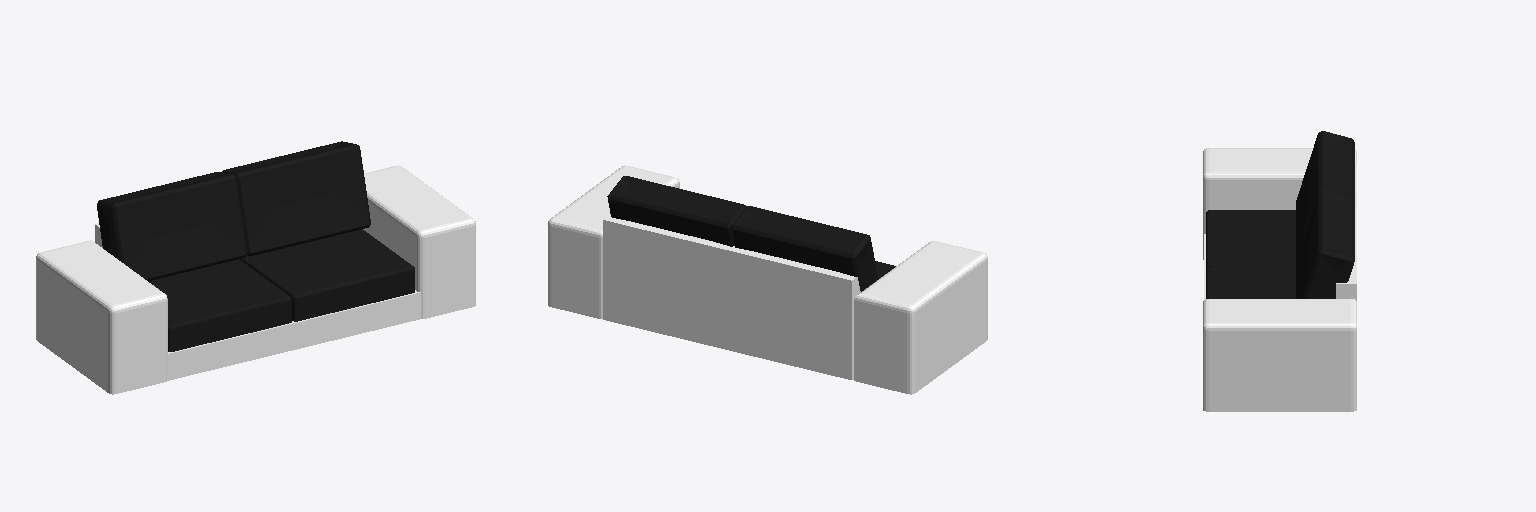
Rendered from 2sofa.obj.
3 views of the same model, side by side, from view 1: azimuth 30°, elevation 25°; view 2: azimuth 150°, elevation 25°; view 3: azimuth 270°, elevation 25° (orthographic).
Visible parts, largest first — view 1: Box004, Box012, Box011, Box003, Box006, Box005, Box001; view 2: Box002, Box004, Box003, Box012, Box011; view 3: Box003, Box004, Box005, Box011, Box012, Box006, Box002.
Boxes of the visible parts, x1=… form: Box004: x1=36, y1=240, x2=167, y2=394; Box012: x1=97, y1=172, x2=246, y2=280; Box011: x1=222, y1=141, x2=370, y2=256; Box003: x1=363, y1=165, x2=475, y2=318; Box006: x1=240, y1=229, x2=414, y2=321; Box005: x1=148, y1=259, x2=291, y2=351; Box001: x1=167, y1=290, x2=420, y2=380; Box002: x1=603, y1=215, x2=860, y2=379; Box004: x1=854, y1=241, x2=987, y2=394; Box003: x1=548, y1=165, x2=679, y2=318; Box012: x1=731, y1=206, x2=877, y2=291; Box011: x1=607, y1=176, x2=746, y2=246; Box003: x1=1203, y1=299, x2=1356, y2=411; Box004: x1=1203, y1=148, x2=1356, y2=259; Box005: x1=1206, y1=210, x2=1295, y2=272; Box011: x1=1296, y1=191, x2=1354, y2=298; Box012: x1=1296, y1=131, x2=1354, y2=259; Box006: x1=1206, y1=271, x2=1295, y2=298; Box002: x1=1336, y1=163, x2=1356, y2=300.
Size of the model in its own units: 33.76 by 11.68 by 12.35.